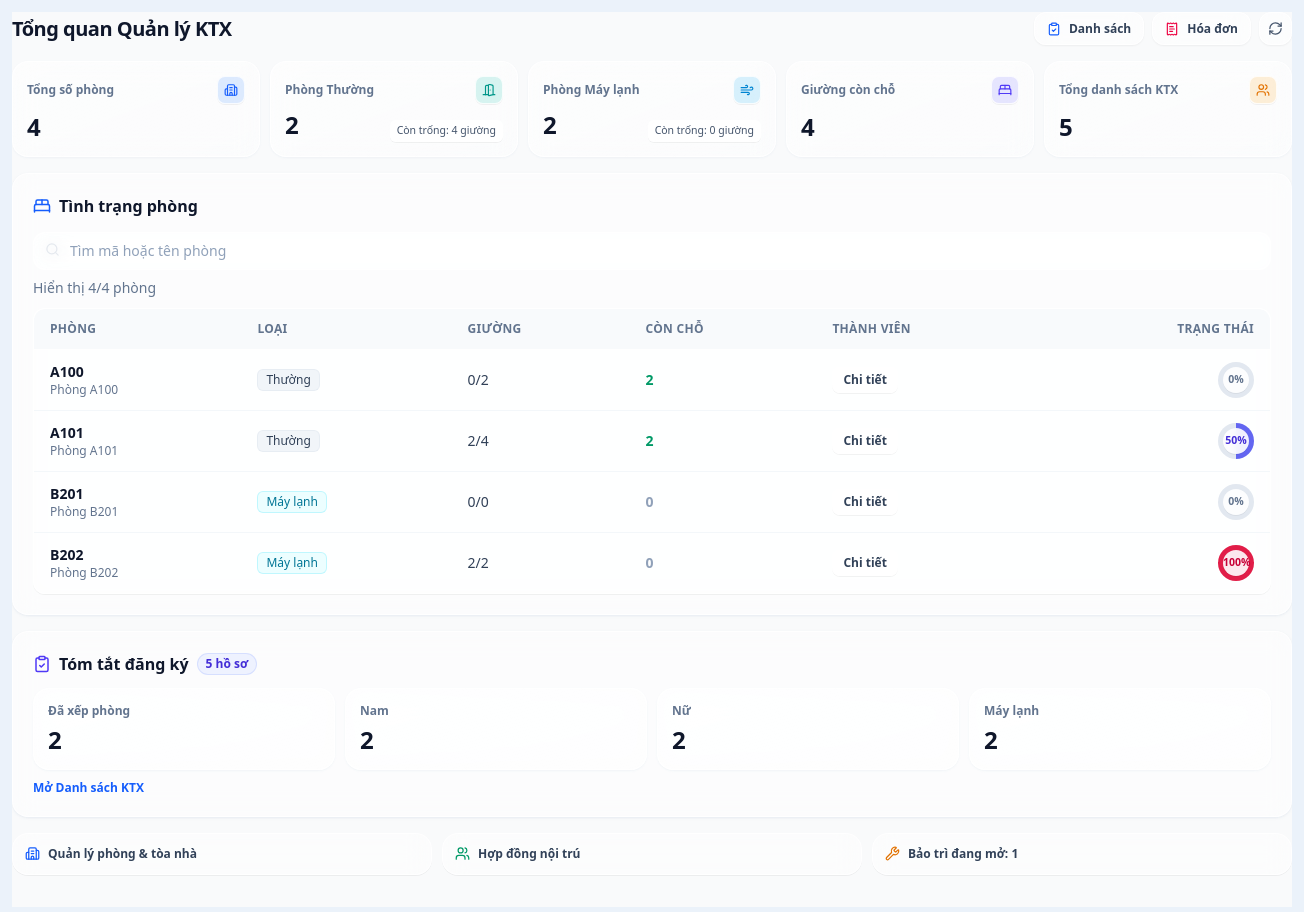
Test: DormitoryOverviewPage › searches room names and puts empty rooms first
This screenshot has width=1304, height=912.
Check: the heading "Tổng quan Quản lý KTX" is shown, box left=12, top=14, right=232, bottom=42
Check: the row "A100 Phòng A100 Thường 0/2 2 Chi tiết 0%" is shown, box left=34, top=349, right=1270, bottom=410
Type "B202" into the field named "Tìm phòng" at (652, 251), box left=33, top=232, right=1271, bottom=270
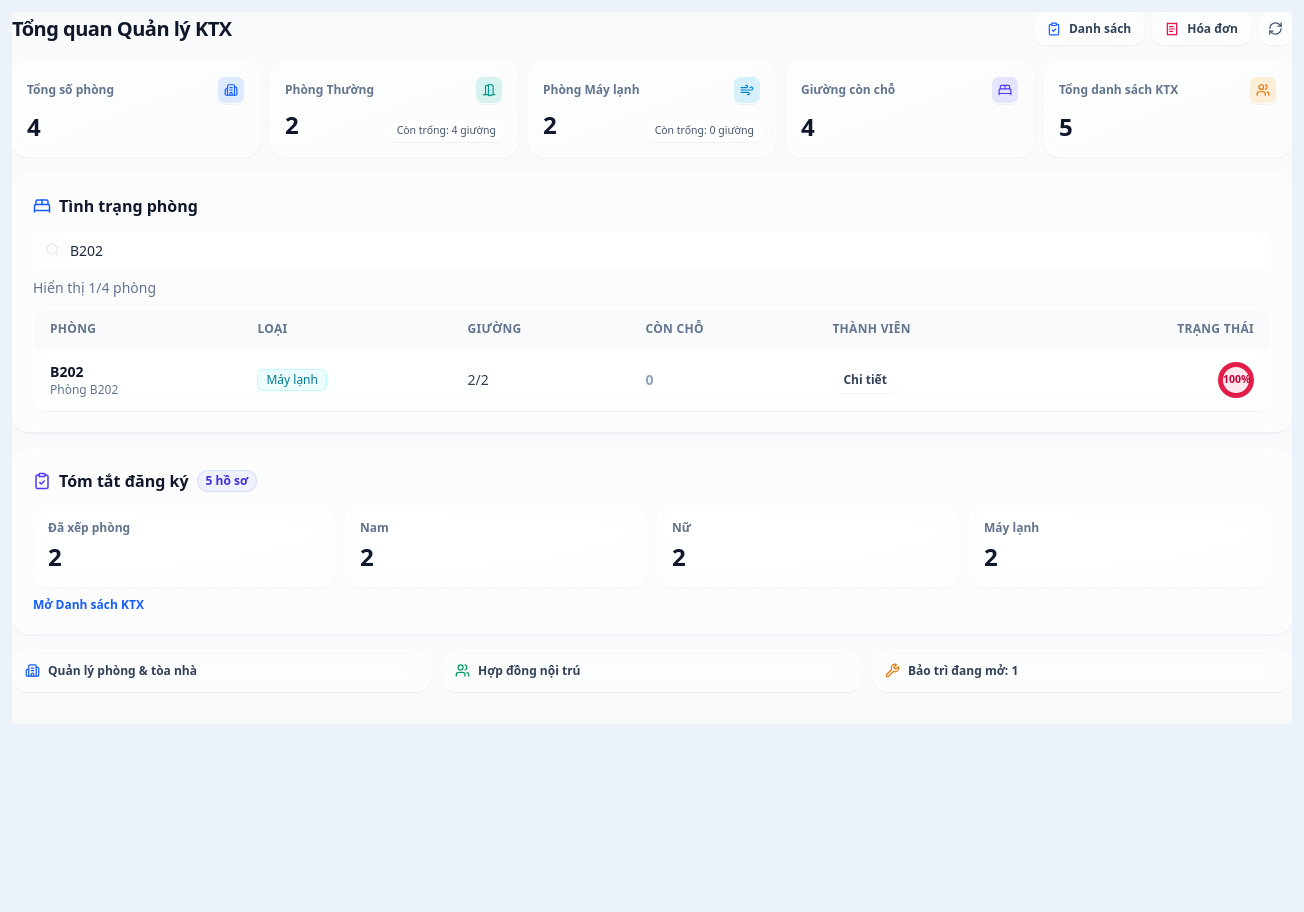
Check: the text "Phòng B202" is shown, box left=50, top=381, right=118, bottom=398
Check: the text "Phòng A100" is gone
